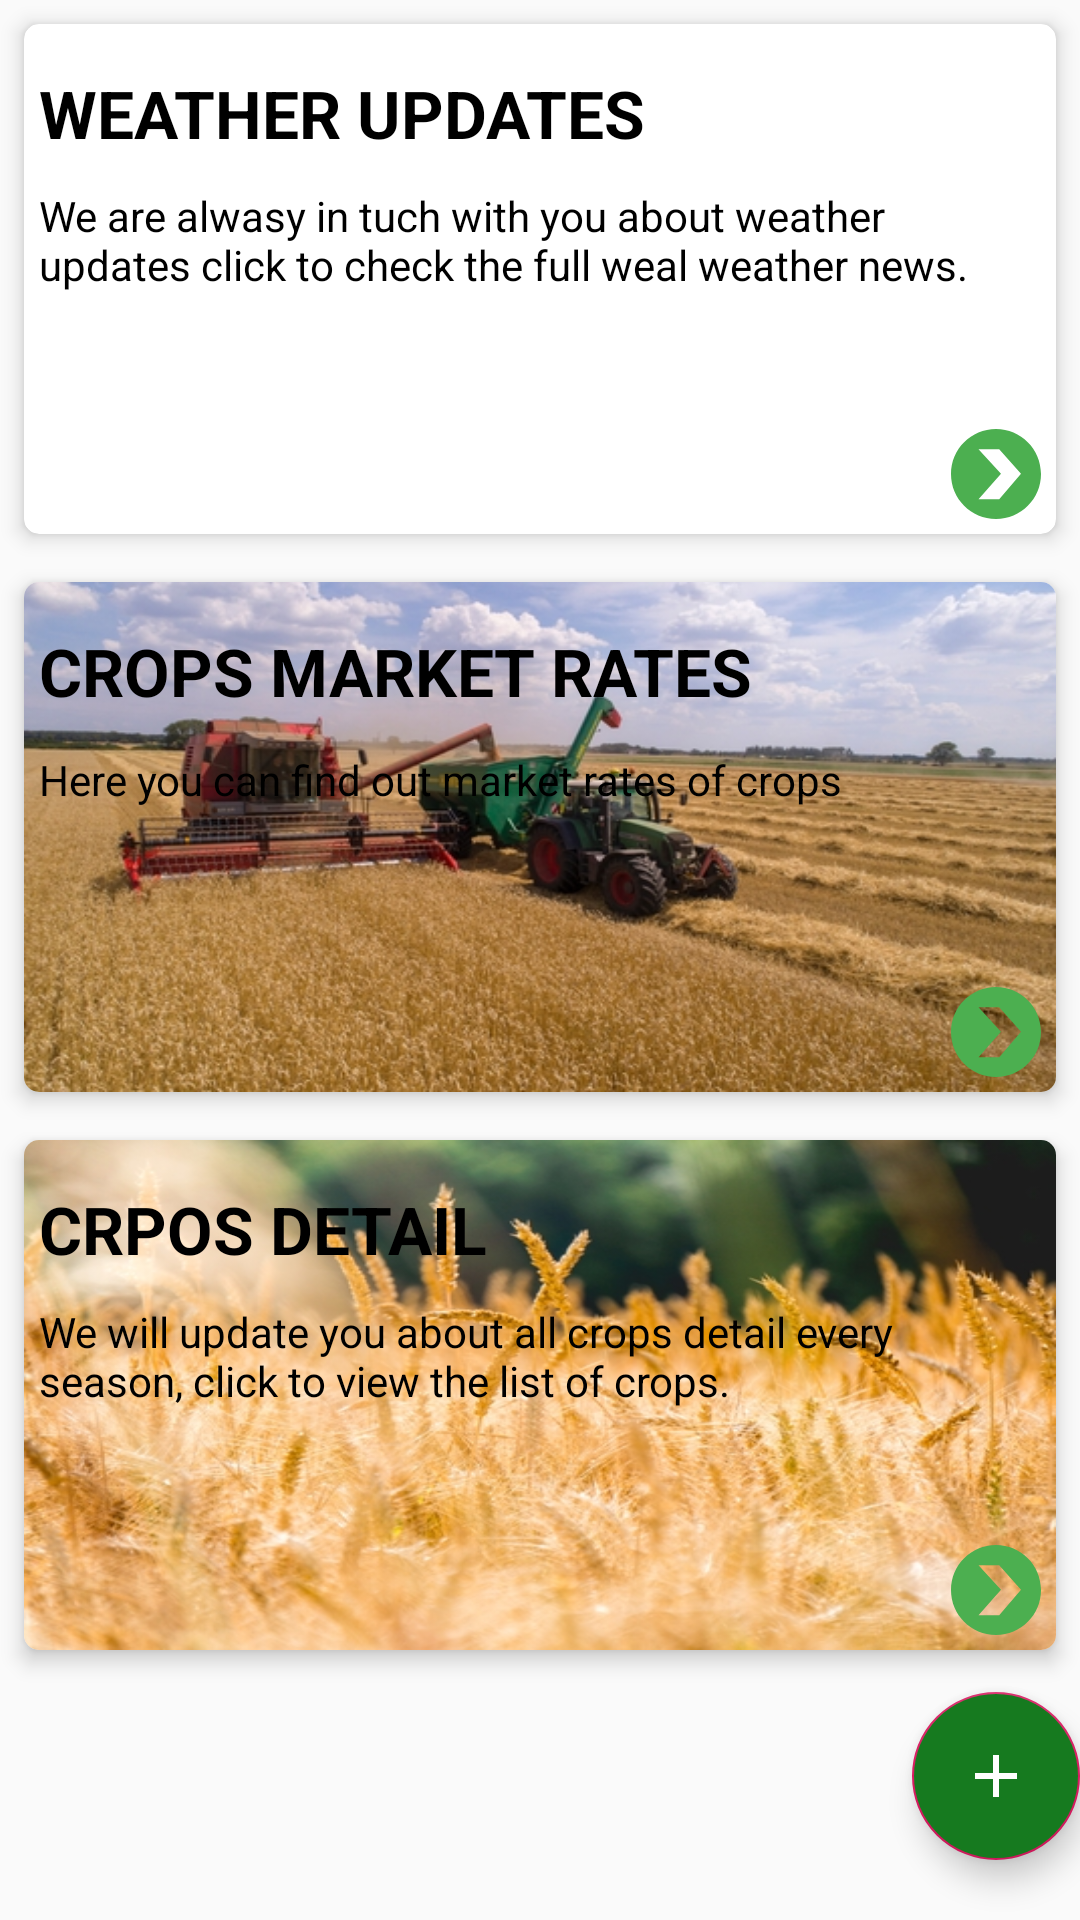

Icons on this 1080 × 1920 Android screen, each with the point to tap as (x=x, y=y):
add: (x=996, y=1776)
go next: (x=996, y=474), (x=996, y=1032), (x=996, y=1590)
